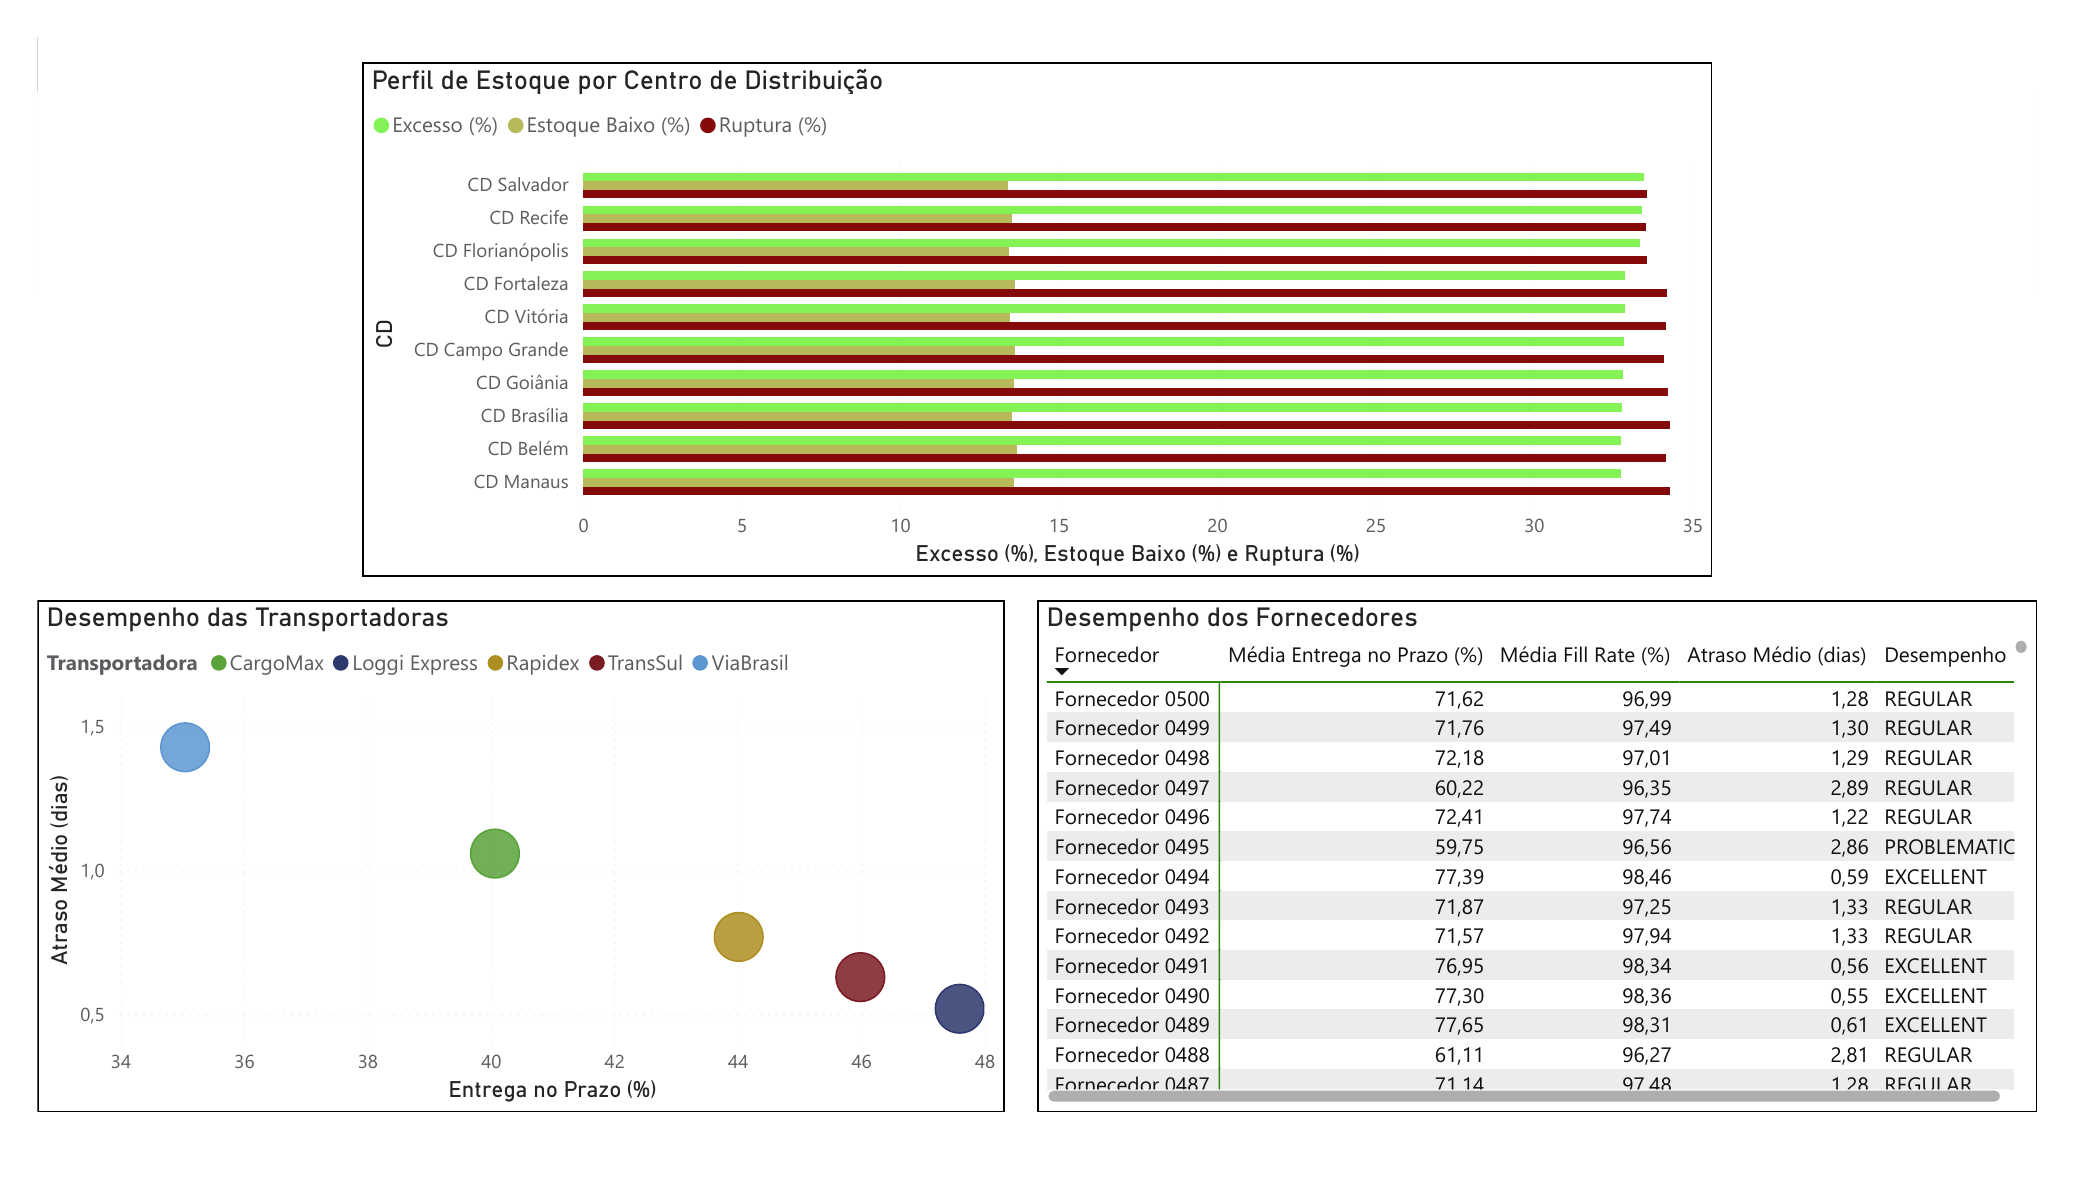

The dashboard page shown, as its layout file describes it:
{"tool":"powerbi","page":{"name":"Análise Operacional","canvas":[1280,720],"ordinal":1},"visuals":[{"type":"pivotTable","title":"Desempenho dos Fornecedores","fields":{"Rows":["supplier_performance.supplier_name"],"Values":["Avg(supplier_performance.on_time_delivery_rate_pct)","Avg(supplier_performance.fill_rate_pct)","Avg(supplier_performance.avg_delay_days)","Min(supplier_performance.performance_class)"]},"box":[640,360,630.9,328.2],"z":0},{"type":"scatterChart","title":"Desempenho das Transportadoras","fields":{"X":["carrier_performance.on_time_delivery_rate_pct"],"Y":["carrier_performance.avg_delay_days"],"Series":["carrier_performance.carrier"],"Size":["Sum(carrier_performance.shipments_count)"]},"box":[18.2,360,600.9,328.2],"z":1000},{"type":"clusteredBarChart","title":"Perfil de Estoque por Centro de Distribuição","fields":{"Category":["warehouse_performance.warehouse_name"],"Y":["Avg(warehouse_performance.overstock_rate_pct)","Avg(warehouse_performance.low_stock_rate_pct)","Avg(warehouse_performance.stockout_rate_pct)"]},"box":[208.2,16.4,863.6,328.2],"z":2000}]}

Visuals, with their boxes on the page's 1280x720 design canvas (x1, y1, x2, y2). These are canvas units, not pixel positions in the 2075x1200 screenshot, which may show the page scaled, cropped or inside an application window:
"Desempenho dos Fornecedores" pivotTable: BBox(640, 360, 1271, 688)
"Desempenho das Transportadoras" scatterChart: BBox(18, 360, 619, 688)
"Perfil de Estoque por Centro de Distribuição" clusteredBarChart: BBox(208, 16, 1072, 345)
